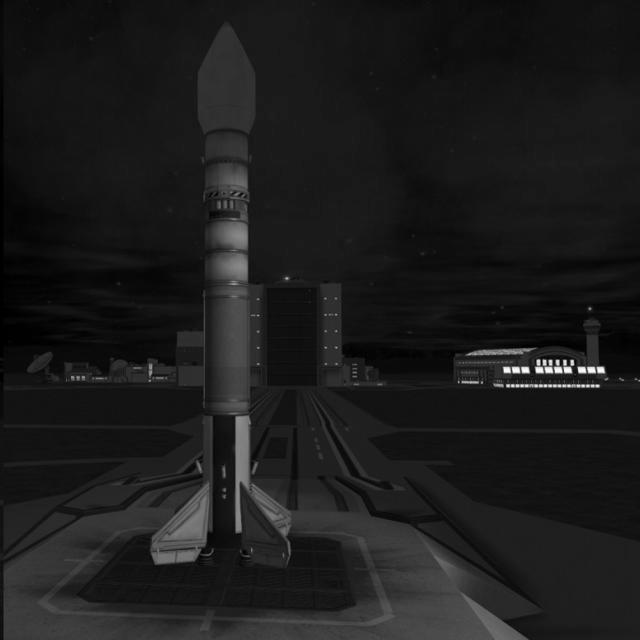missile: (187, 21, 269, 570)
